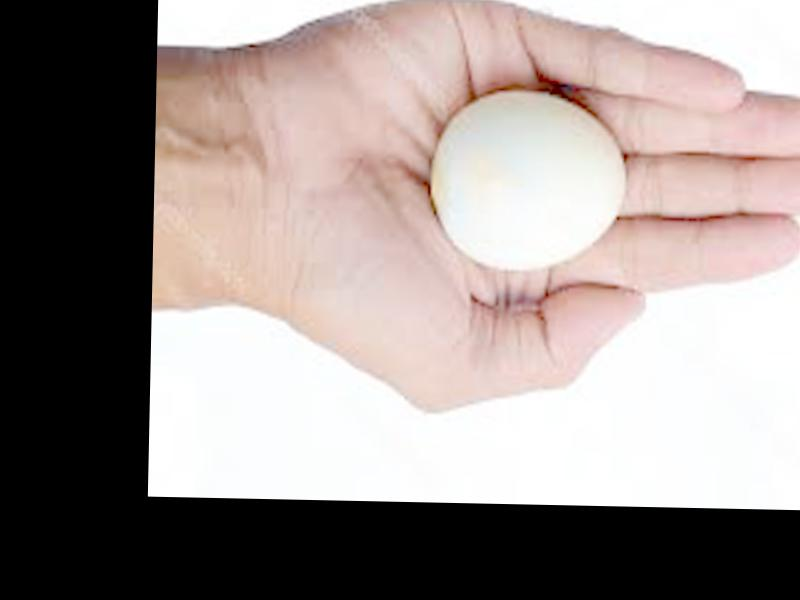Eggs: (430, 93, 630, 268)
